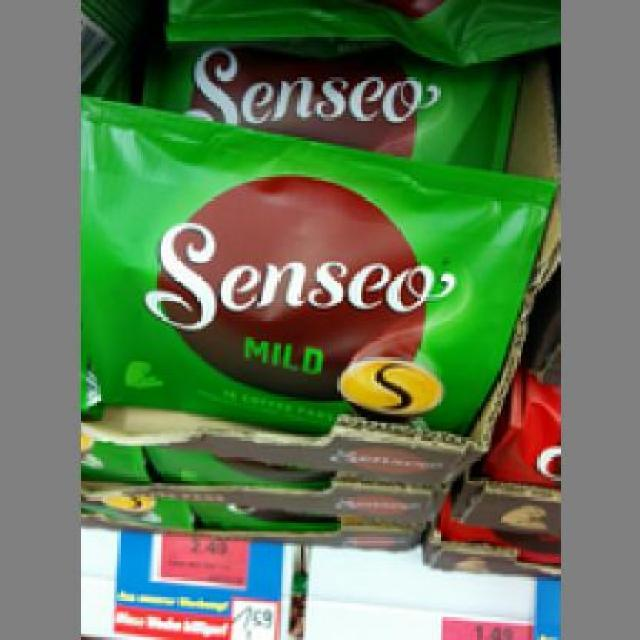Coffee: (77, 89, 554, 440)
